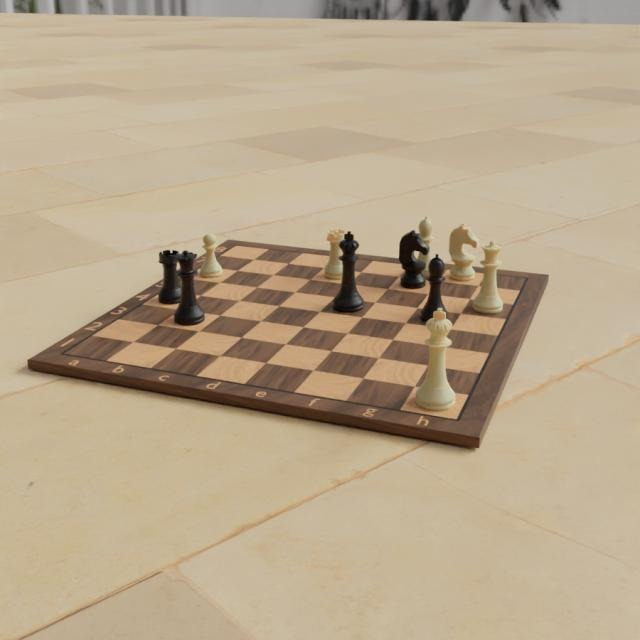black-bishop: (418, 253, 449, 327)
black-king: (331, 228, 365, 314)
black-knight: (397, 229, 430, 290)
black-queen: (170, 249, 205, 327)
black-rook: (155, 248, 185, 304)
white-bishop: (410, 215, 438, 281)
white-king: (412, 305, 455, 413)
white-knight: (446, 220, 477, 283)
white-pawn: (199, 232, 223, 279)
white-queen: (470, 239, 505, 317)
white-rook: (322, 227, 349, 280)
